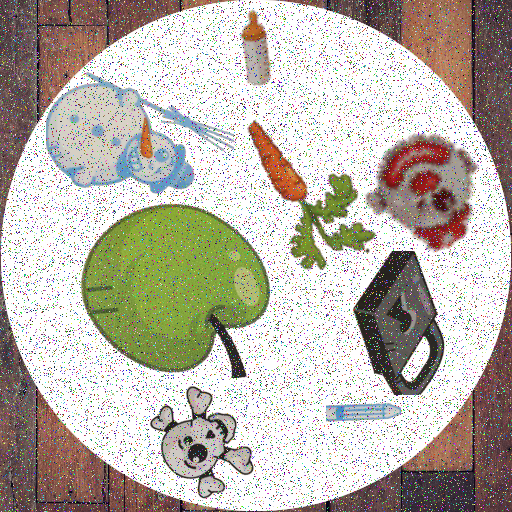apple_icon: (78, 178, 278, 378)
bottle_icon: (218, 10, 295, 87)
carrot_icon: (210, 117, 383, 290)
clown_icon: (364, 133, 484, 253)
lock_icon: (332, 251, 476, 395)
pen_icon: (326, 375, 401, 450)
skull_icon: (136, 379, 261, 504)
snowman_icon: (46, 39, 234, 227)
